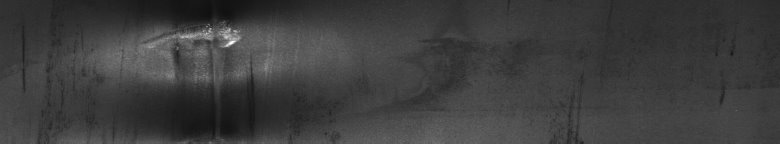ke: (20, 16, 269, 136)
